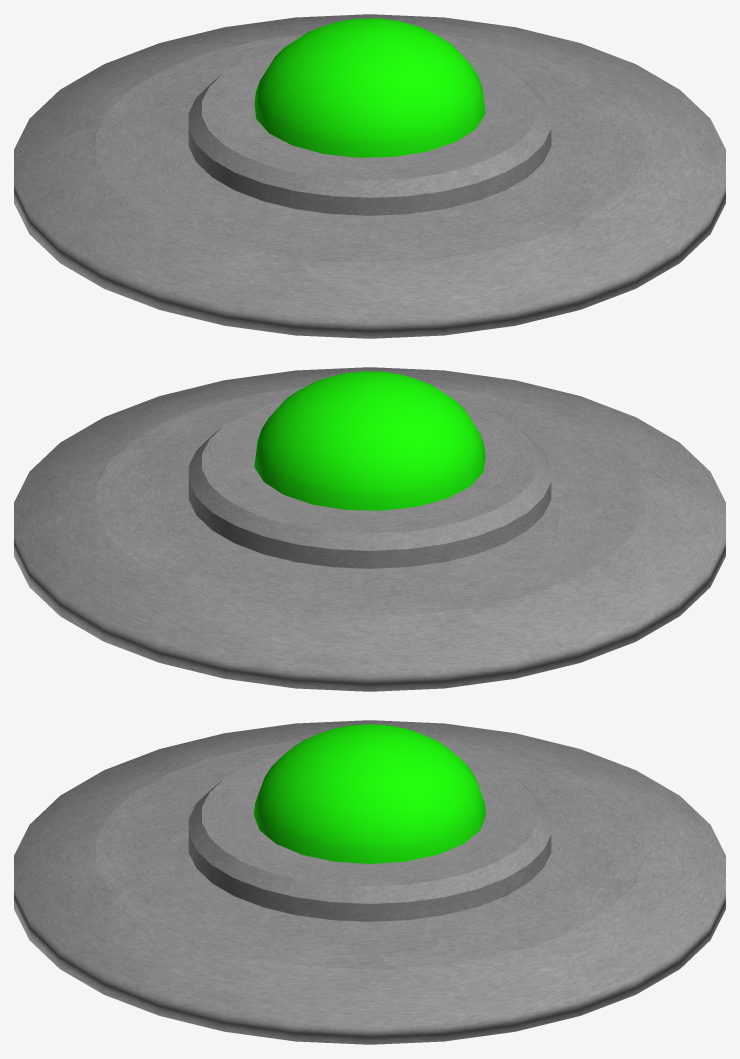
Rendered from SpaceshipInterior.fbx.
The picture shows the model from 3 angles, top to bottom: view 1: azimuth 30°, elevation 25°; view 2: azimuth 150°, elevation 25°; view 3: azimuth 270°, elevation 25°; orthographic projection.
Visible parts, largest first — view 1: Saucer, GlassDome; view 2: Saucer, GlassDome; view 3: Saucer, GlassDome.
Boxes of the visible parts, x1=… form: Saucer: x1=14, y1=14, x2=725, y2=338; GlassDome: x1=254, y1=18, x2=485, y2=157; Saucer: x1=14, y1=367, x2=725, y2=691; GlassDome: x1=254, y1=371, x2=485, y2=510; Saucer: x1=14, y1=720, x2=725, y2=1044; GlassDome: x1=253, y1=724, x2=486, y2=863.
Size of the model in its own units: 16.08 by 4.5 by 16.
